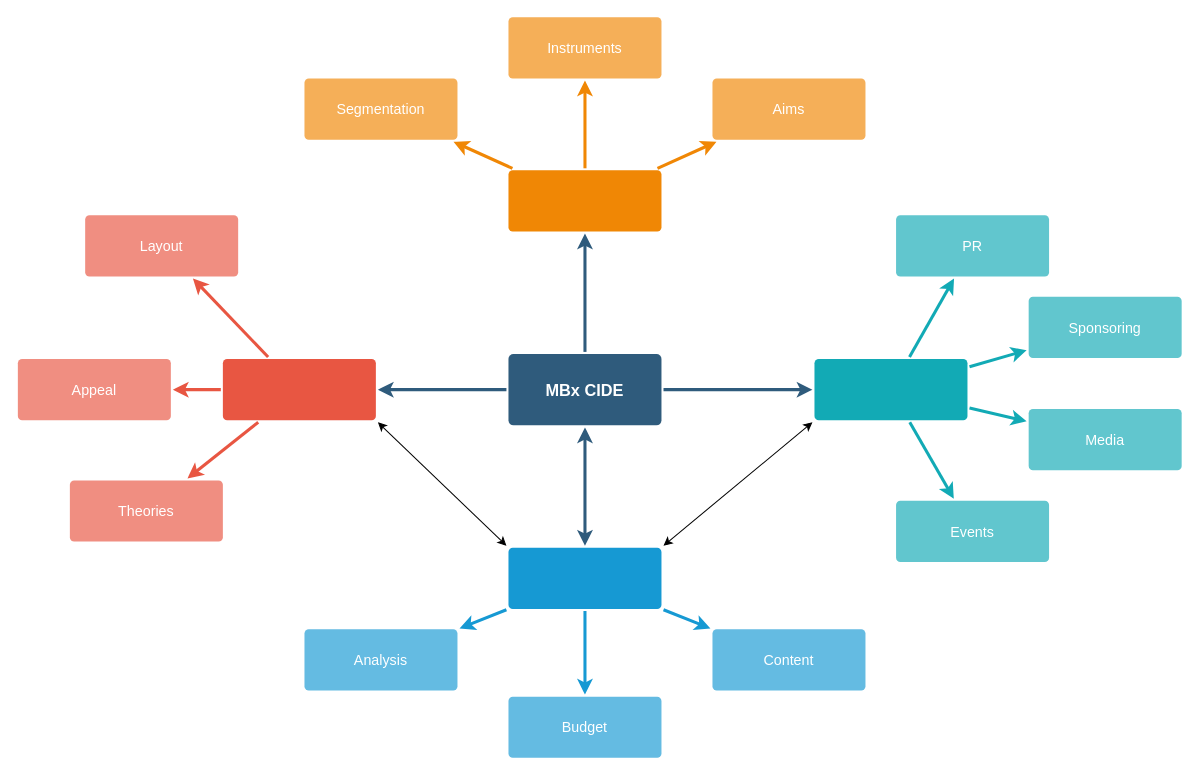
The diagram is 1199 pixels wide and 775 high, and some of its shapes have lost their labels. Each missing label, with the centre of its shape:
"API" goes at (584,577).
"Data Store" goes at (890,389).
"Modeling" goes at (584,200).
"Simulation" goes at (298,389).
